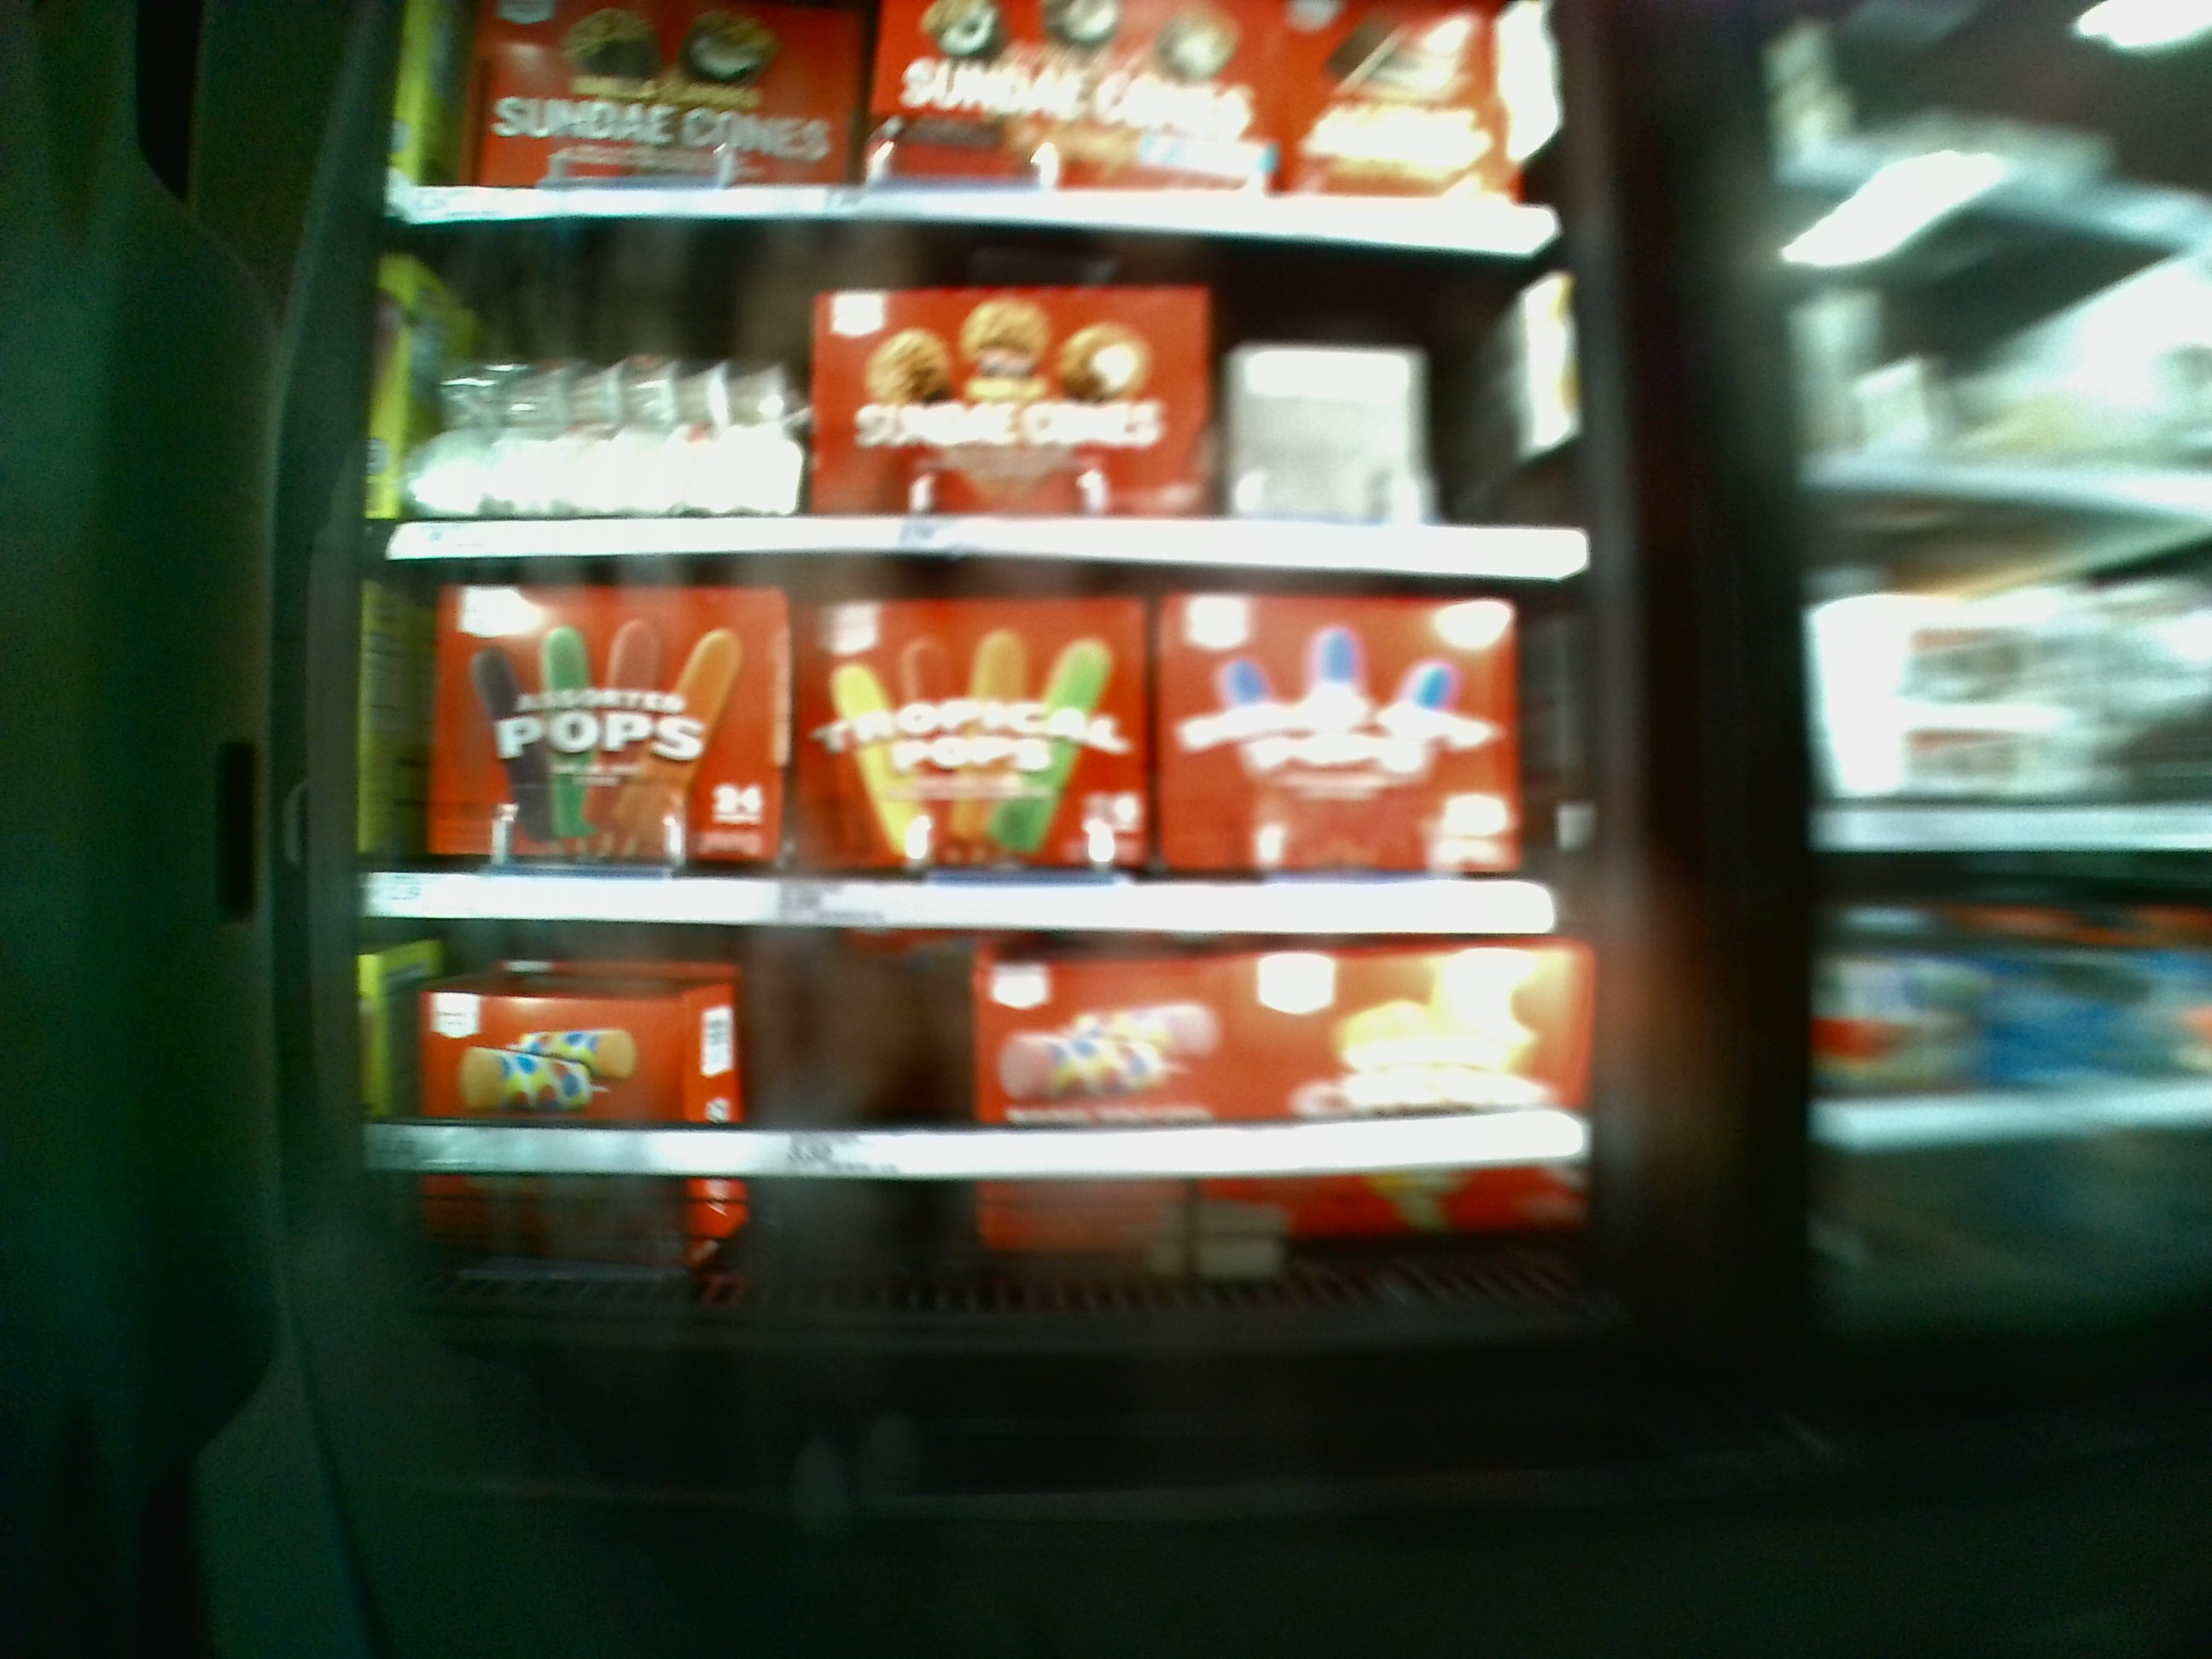shelf: (395, 934, 1588, 1335), (404, 563, 1578, 934), (404, 220, 1568, 577)
